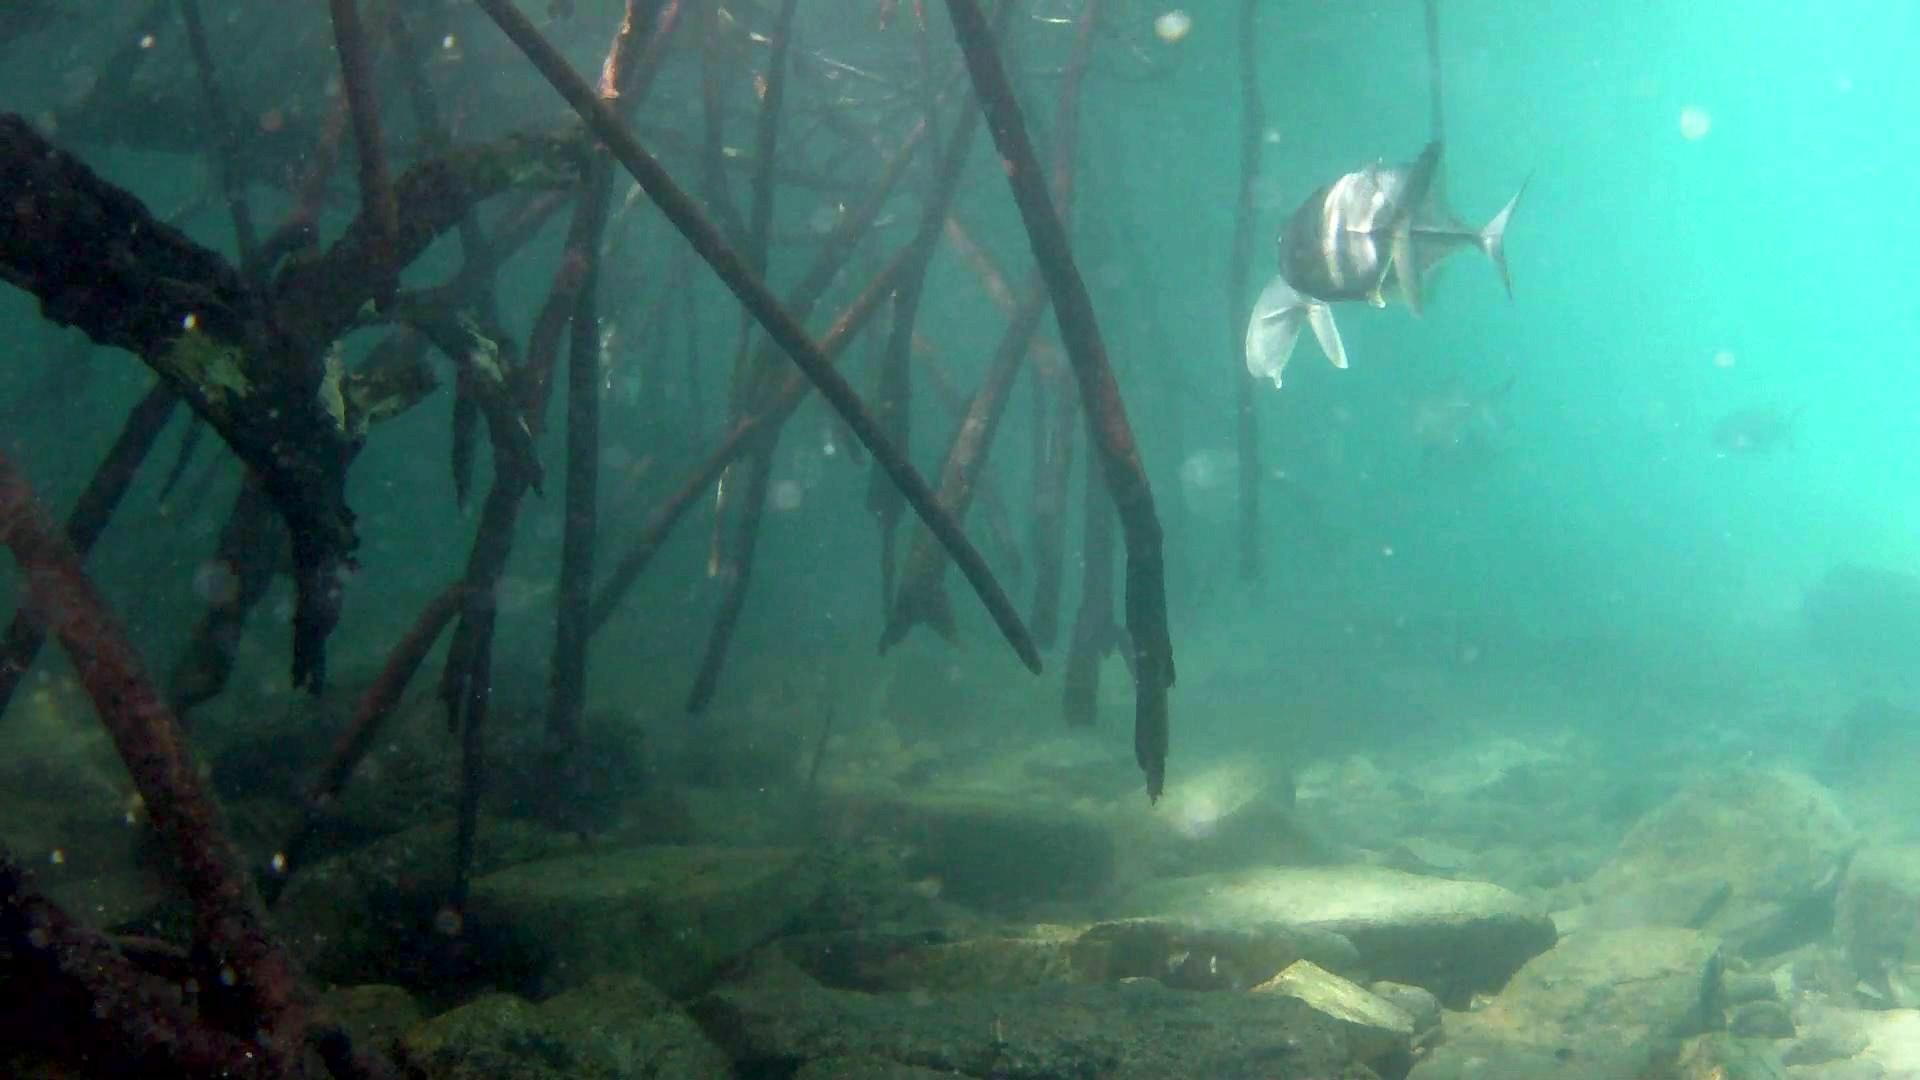caranx: (1258, 131, 1459, 328)
